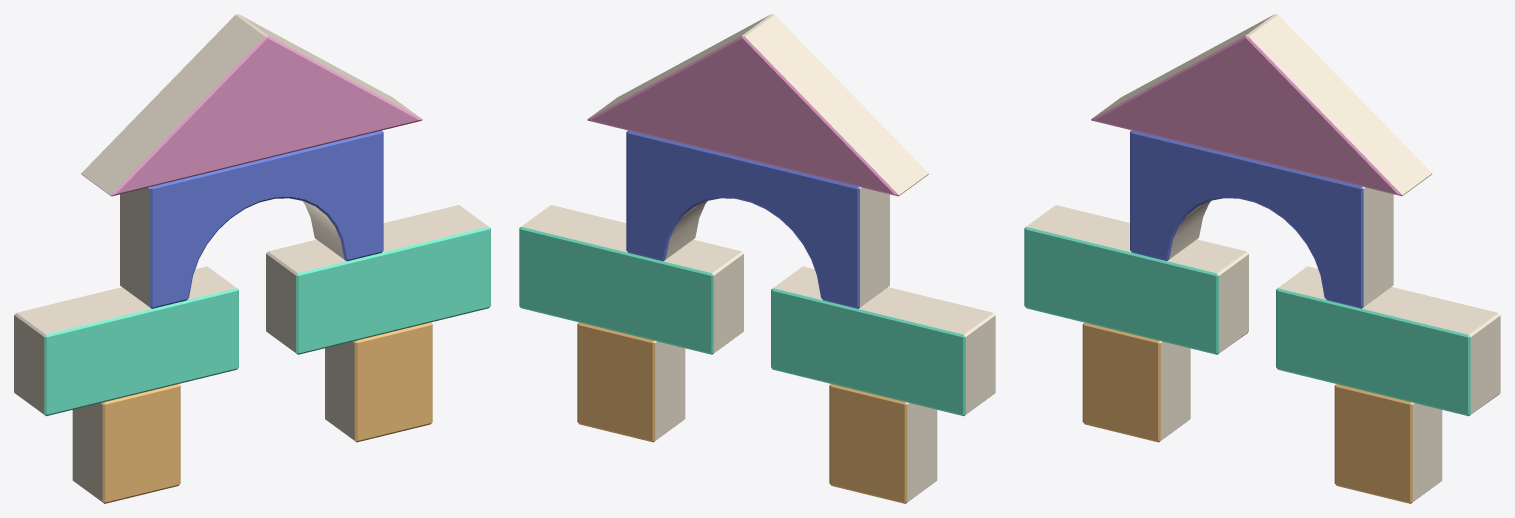
File: WoodBlocks_Castle_01.FBX
The picture shows the model from 3 angles, left to right: view 1: azimuth 30°, elevation 25°; view 2: azimuth 150°, elevation 25°; view 3: azimuth 330°, elevation 25°; orthographic projection.
Visible parts, largest first — view 1: WoodBlocks_Cuboid_Rd_01, WoodBlocks_Cuboid_Bl_01, WoodBlocks_Cuboid_Gr_B_01, WoodBlocks_Cuboid_Gr_A_01, WoodBlocks_Cuboid_Ye_A_01, WoodBlocks_Cuboid_Ye_B_01; view 2: WoodBlocks_Cuboid_Rd_01, WoodBlocks_Cuboid_Bl_01, WoodBlocks_Cuboid_Gr_B_01, WoodBlocks_Cuboid_Gr_A_01, WoodBlocks_Cuboid_Ye_A_01, WoodBlocks_Cuboid_Ye_B_01; view 3: WoodBlocks_Cuboid_Rd_01, WoodBlocks_Cuboid_Bl_01, WoodBlocks_Cuboid_Gr_A_01, WoodBlocks_Cuboid_Gr_B_01, WoodBlocks_Cuboid_Ye_A_01, WoodBlocks_Cuboid_Ye_B_01.
Boxes of the visible parts, x1,y1,x2,y2 form: WoodBlocks_Cuboid_Rd_01: (81, 14, 422, 196); WoodBlocks_Cuboid_Bl_01: (120, 130, 383, 308); WoodBlocks_Cuboid_Gr_B_01: (266, 205, 490, 354); WoodBlocks_Cuboid_Gr_A_01: (14, 266, 238, 416); WoodBlocks_Cuboid_Ye_A_01: (72, 384, 180, 503); WoodBlocks_Cuboid_Ye_B_01: (325, 322, 432, 442); WoodBlocks_Cuboid_Rd_01: (587, 14, 928, 196); WoodBlocks_Cuboid_Bl_01: (626, 130, 889, 308); WoodBlocks_Cuboid_Gr_B_01: (519, 205, 743, 354); WoodBlocks_Cuboid_Gr_A_01: (771, 266, 995, 416); WoodBlocks_Cuboid_Ye_A_01: (829, 384, 937, 503); WoodBlocks_Cuboid_Ye_B_01: (577, 322, 685, 442); WoodBlocks_Cuboid_Rd_01: (1091, 14, 1432, 196); WoodBlocks_Cuboid_Bl_01: (1130, 130, 1393, 308); WoodBlocks_Cuboid_Gr_A_01: (1024, 205, 1248, 354); WoodBlocks_Cuboid_Gr_B_01: (1276, 266, 1500, 416); WoodBlocks_Cuboid_Ye_A_01: (1082, 322, 1190, 442); WoodBlocks_Cuboid_Ye_B_01: (1334, 384, 1442, 503).
Size of the model in its own units: 11.46 by 10.5 by 1.4.
